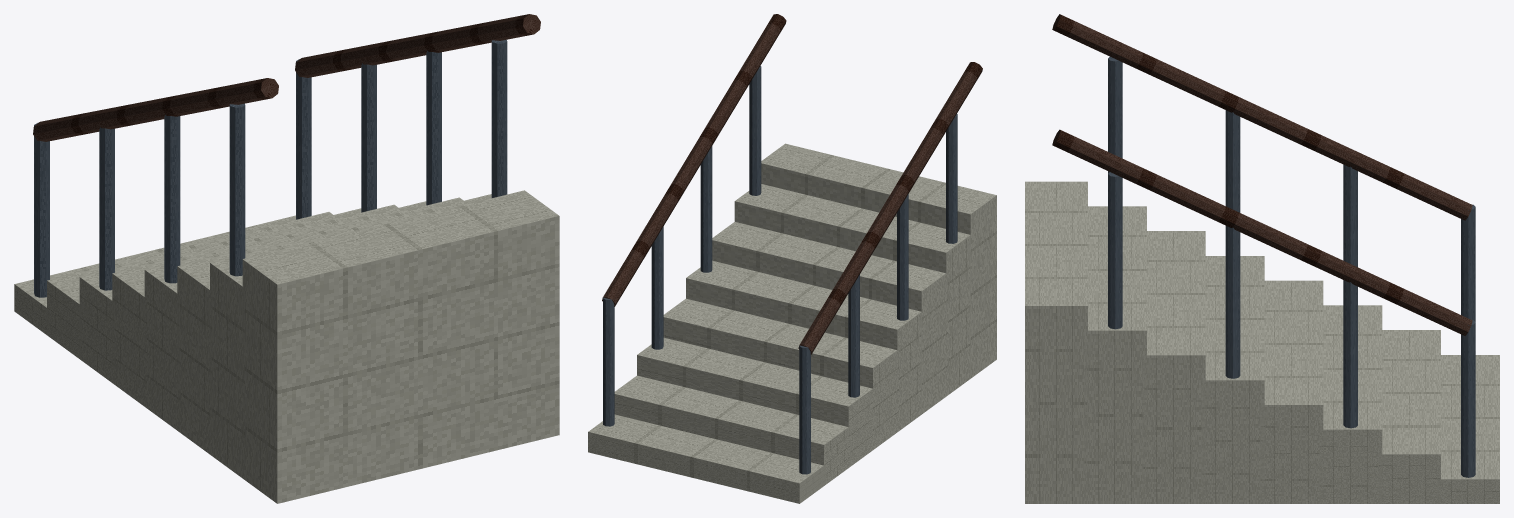
File: moving_stairs.glb
The picture shows the model from 3 angles, left to right: view 1: azimuth 30°, elevation 25°; view 2: azimuth 150°, elevation 25°; view 3: azimuth 270°, elevation 25°; orthographic projection. The views are drawn at different scales.
Visible parts, largest first — view 1: step (×8), post (×8), rail (×2); view 2: step (×8), post (×8), rail (×2); view 3: step (×8), rail (×2), post (×8).
Part boxes in pixels (x1,y1,x2,y2): step (×8): [14, 190, 559, 503]; post (×8): [34, 39, 507, 297]; rail (×2): [33, 14, 540, 141]; step (×8): [588, 143, 996, 503]; post (×8): [603, 66, 957, 474]; rail (×2): [602, 14, 982, 354]; step (×8): [1025, 181, 1499, 503]; rail (×2): [1052, 14, 1472, 336]; post (×8): [1108, 56, 1475, 477].
Bounding box in the file's own units: 1.4 × 1.94 × 2.26.
1 material, 1 textured.
